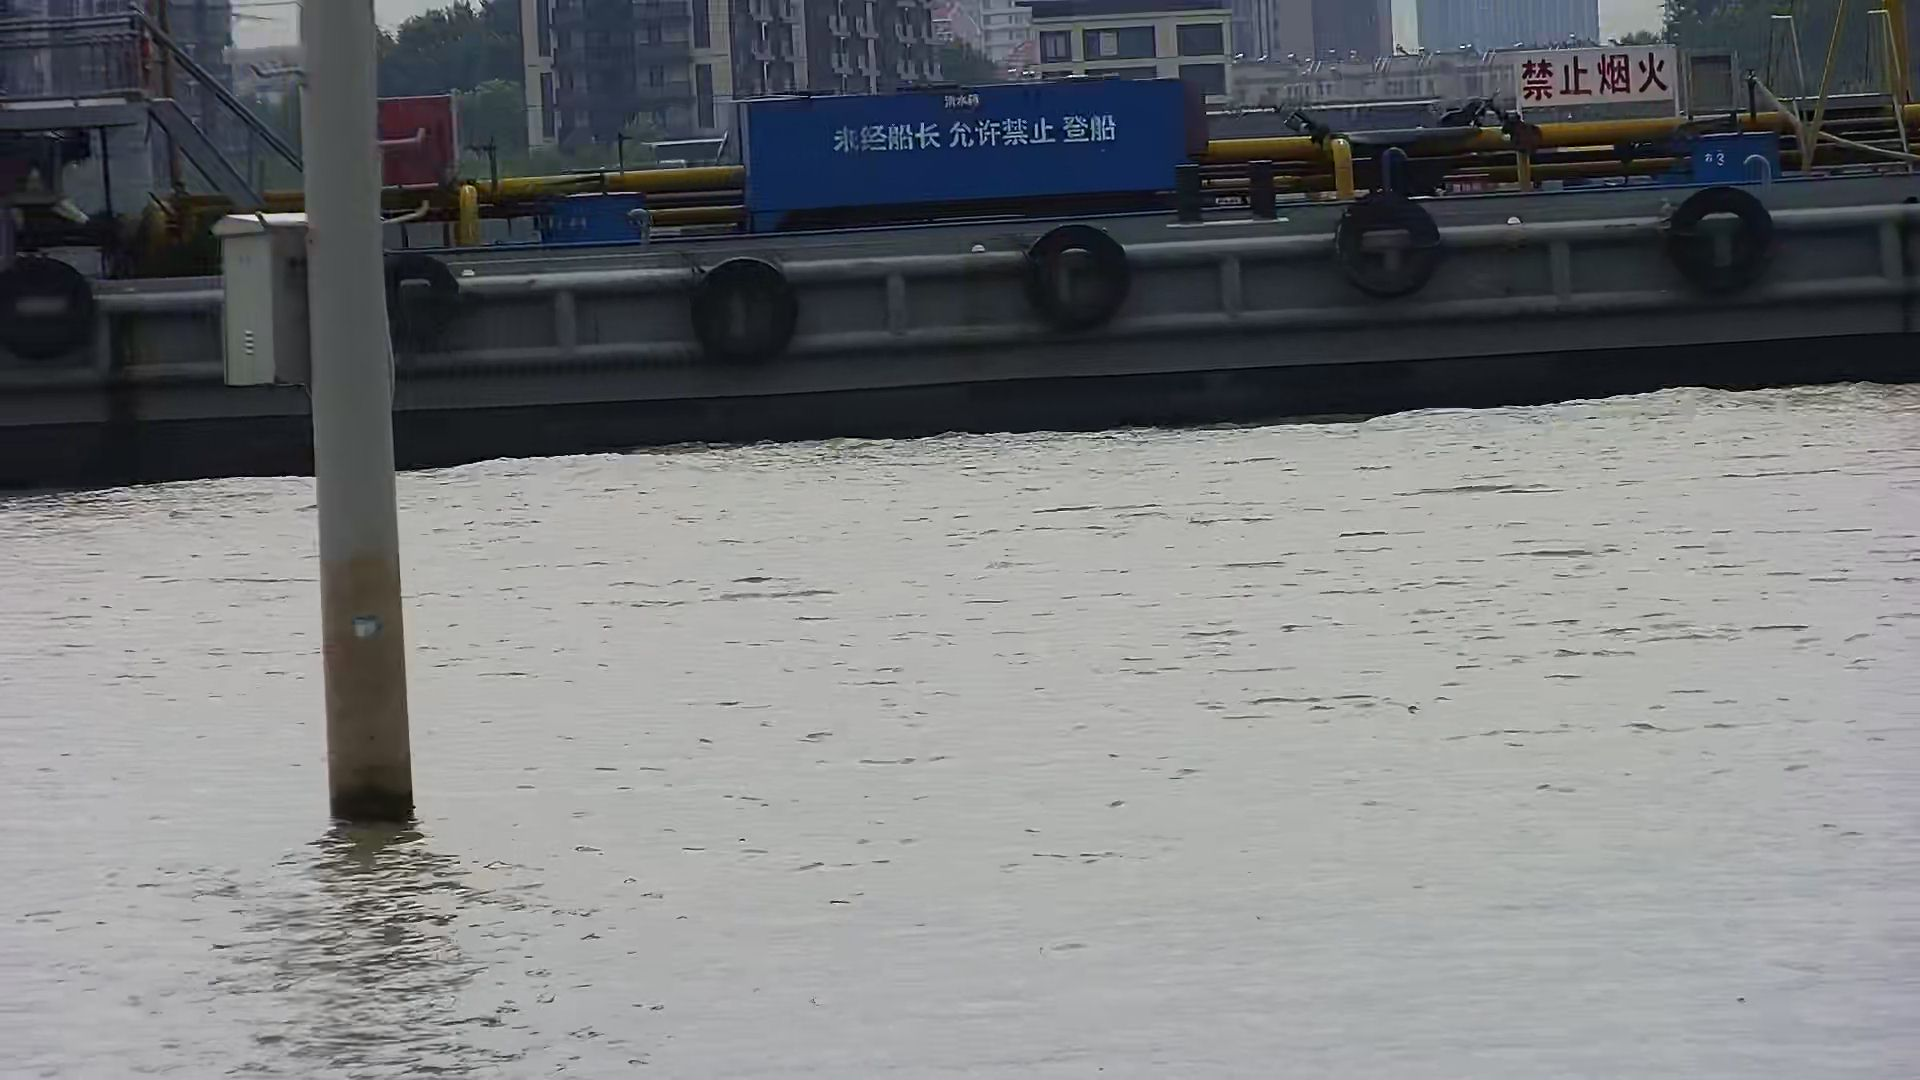mast: (301, 3, 415, 832)
ship: (1, 1, 1920, 495)
